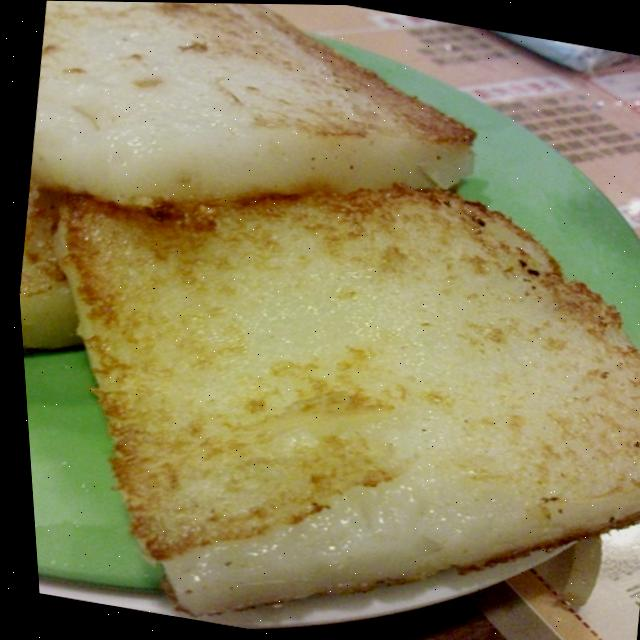蛋糕甜品: (0, 0, 640, 617)
